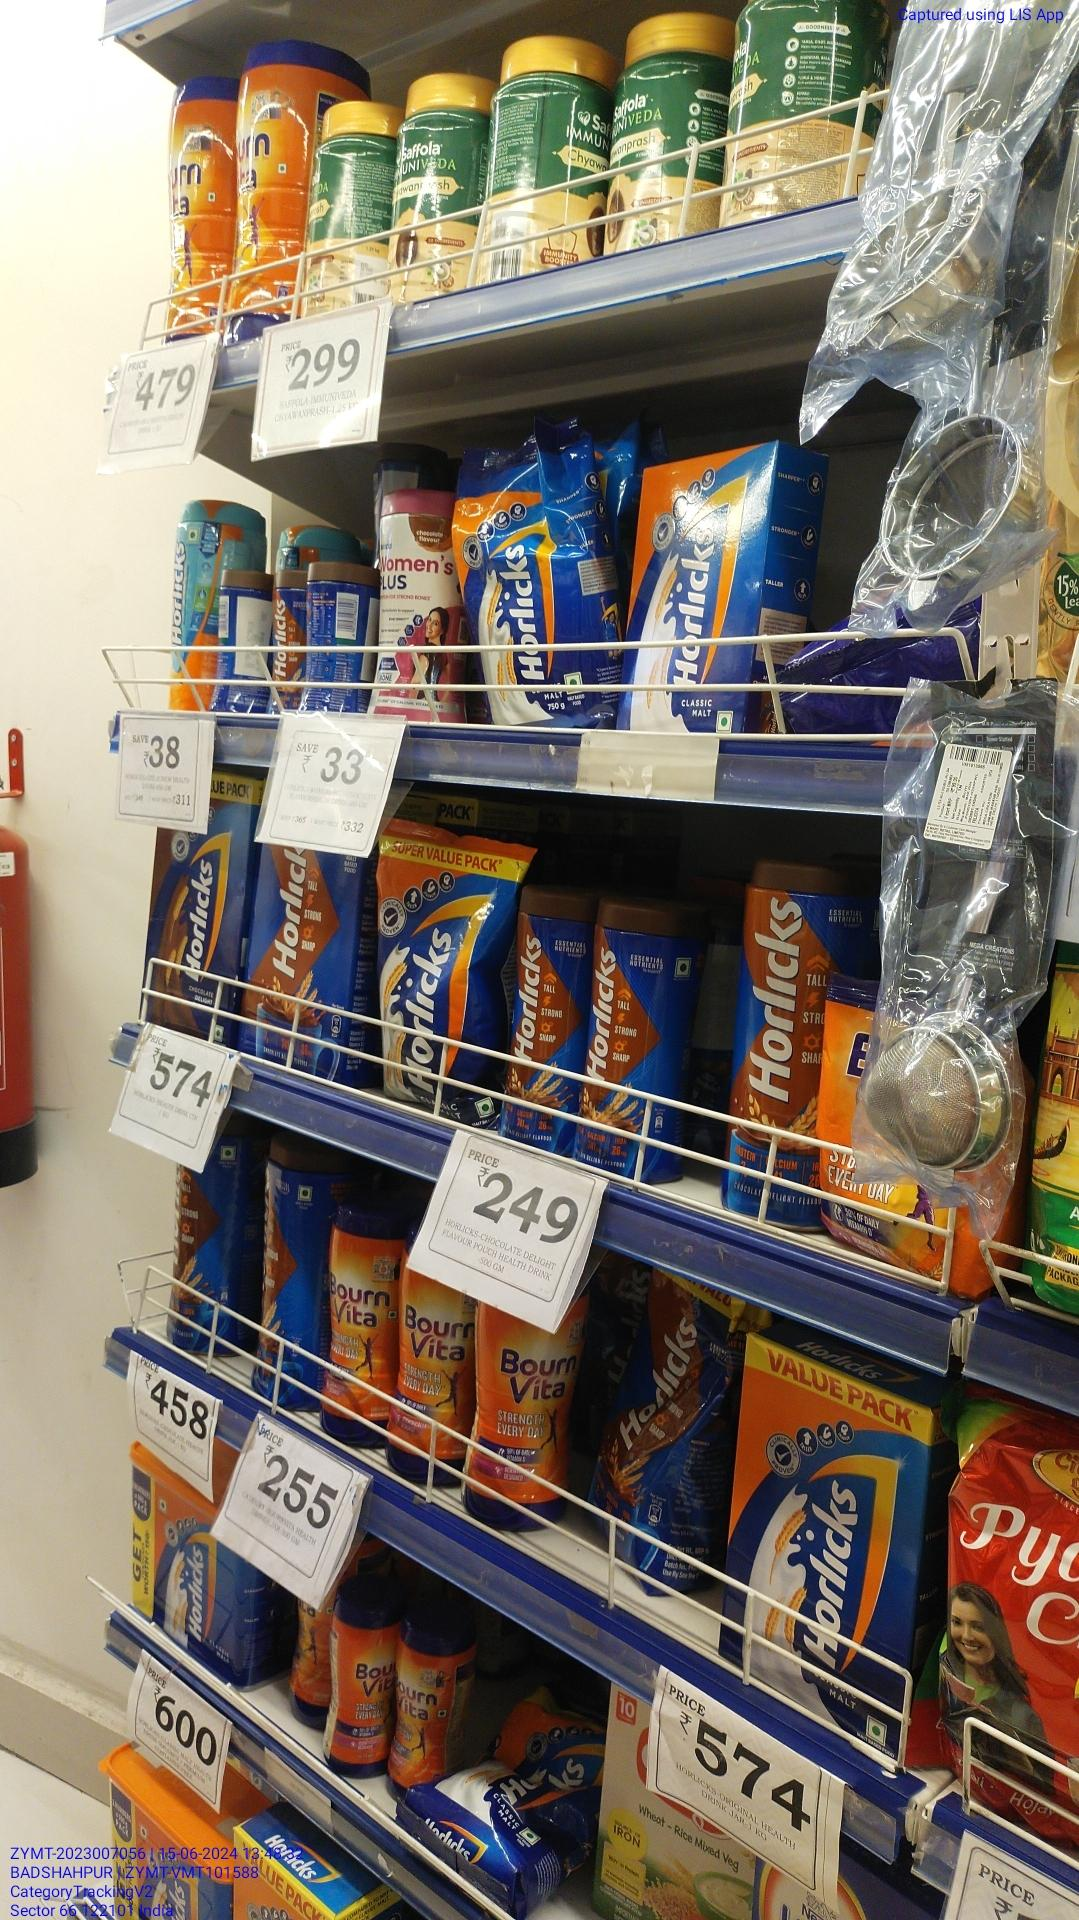BOURN_VITA_200_G_JAR: (394, 1609, 460, 1771), (321, 1601, 380, 1776)
BOURN_VITA_500_G_JAR: (470, 1300, 571, 1531), (319, 1201, 386, 1457)
HORLICK_CHOCOLATE_1_KG_JAR: (729, 852, 823, 1224)
HORLICK_CHOCOLATE_500_G_JAR: (583, 906, 683, 1178), (509, 884, 570, 1146)
